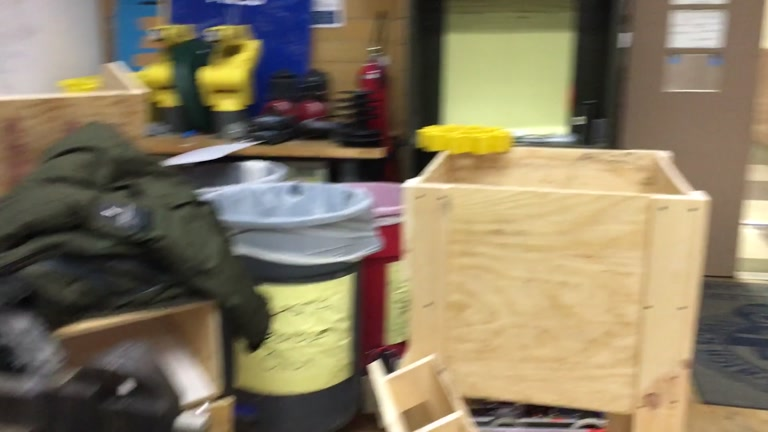gear: (416, 124, 511, 155)
